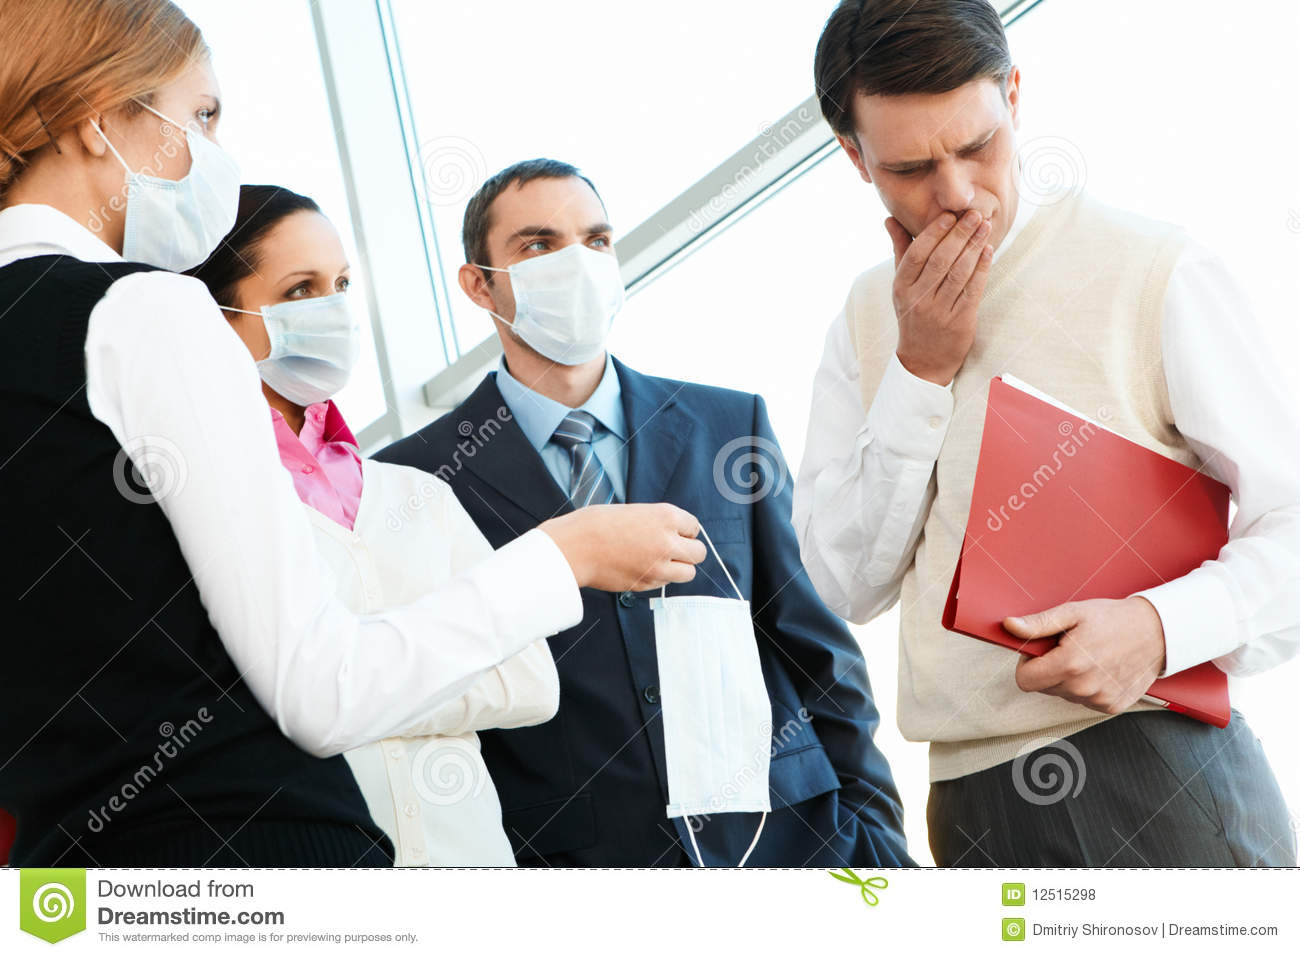mask: (122, 124, 241, 275), (509, 244, 626, 369), (254, 290, 355, 404)
